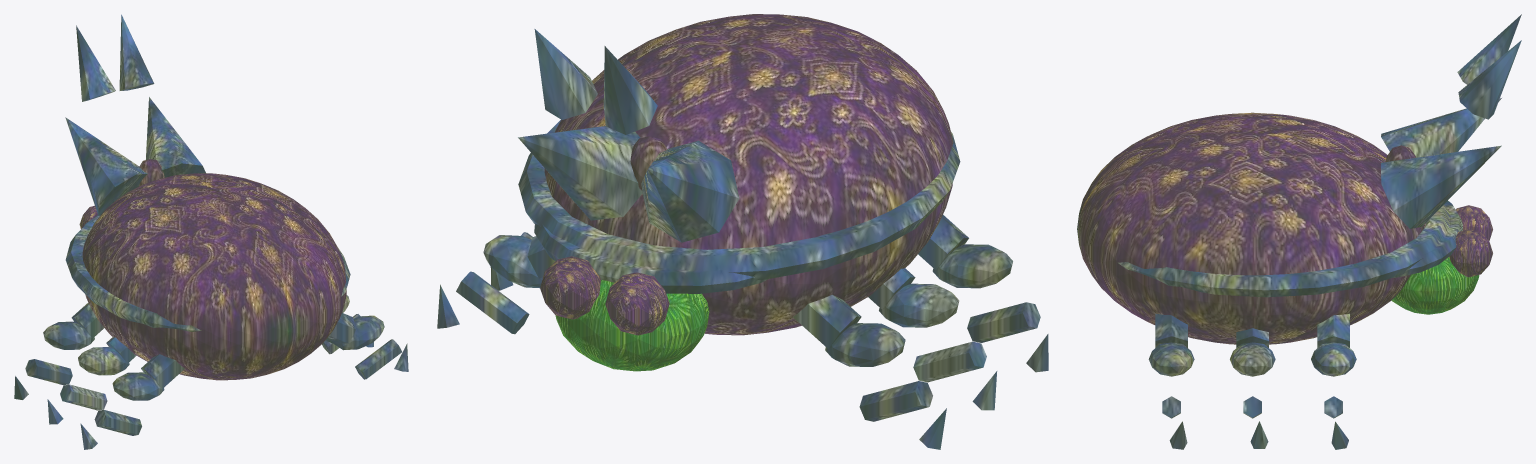
Rendered from beetle.glb.
3 renders of one model, left to right at view 1: azimuth 30°, elevation 25°; view 2: azimuth 150°, elevation 25°; view 3: azimuth 270°, elevation 25°, orthographic. The views are drawn at different scales.
Parts seen in each view (by area): view 1: body, metal; view 2: body, metal, fabric, glow; view 3: body, metal, fabric, glow.
Part boxes in pixels (box(x1,y1,x2,y2)): body: box(82, 159, 346, 380); metal: box(14, 14, 408, 449); body: box(544, 14, 953, 335); metal: box(437, 29, 1048, 449); fabric: box(555, 280, 709, 371); glow: box(540, 256, 669, 335); body: box(1077, 112, 1426, 344); metal: box(1118, 14, 1521, 449); fabric: box(1391, 257, 1479, 314); glow: box(1449, 205, 1492, 277).
Bounding box in the file's own units: 0.9645 × 0.8 × 0.9729.
Materials: 1 (1 with a texture image).
